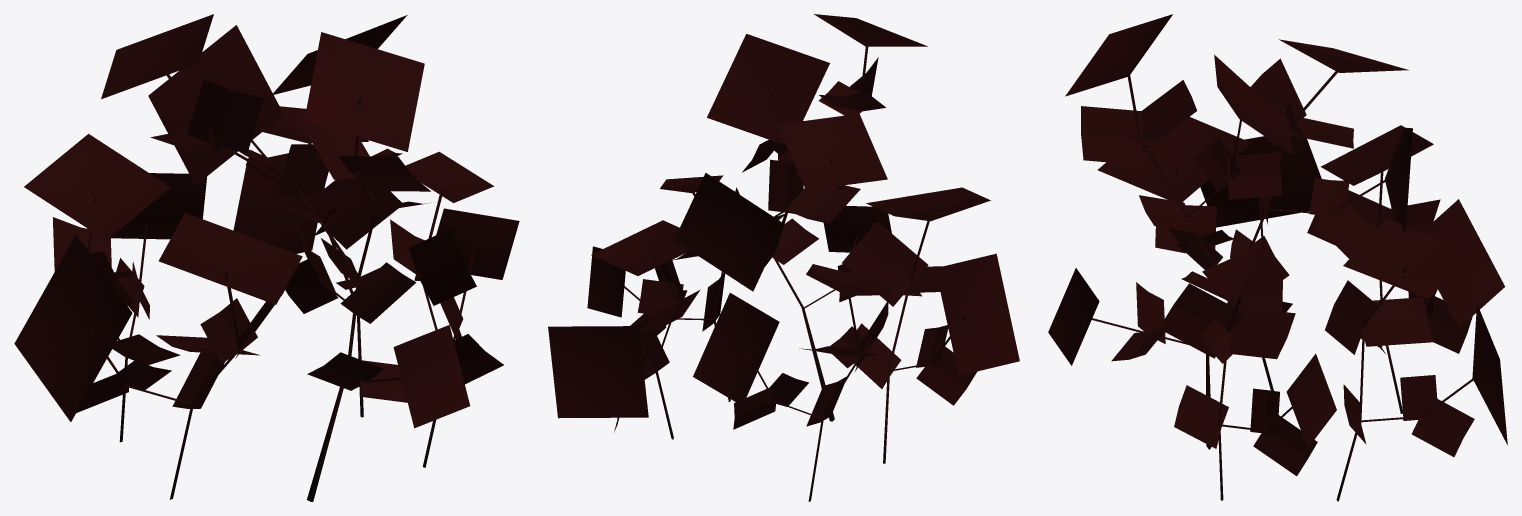
File: Purple Plant.fbx
3 renders of one model, left to right at view 1: azimuth 30°, elevation 25°; view 2: azimuth 150°, elevation 25°; view 3: azimuth 270°, elevation 25°, orthographic. The views are drawn at different scales.
Parts seen in each view (by area): view 1: Circle.014; view 2: Circle.014; view 3: Circle.014.
Part boxes in pixels (x1=…): Circle.014: x1=14, y1=14, x2=519, y2=501; Circle.014: x1=548, y1=14, x2=1019, y2=501; Circle.014: x1=1048, y1=14, x2=1507, y2=501.
Bounding box in the file's own units: 73.41 × 70 × 67.7.
